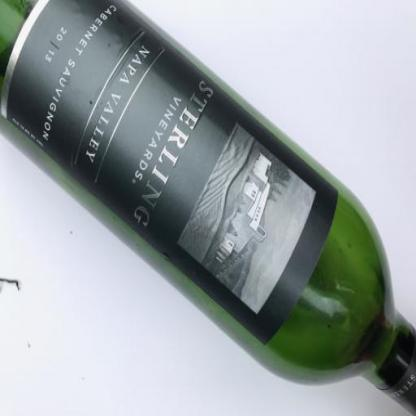trash: (0, 1, 414, 411)
